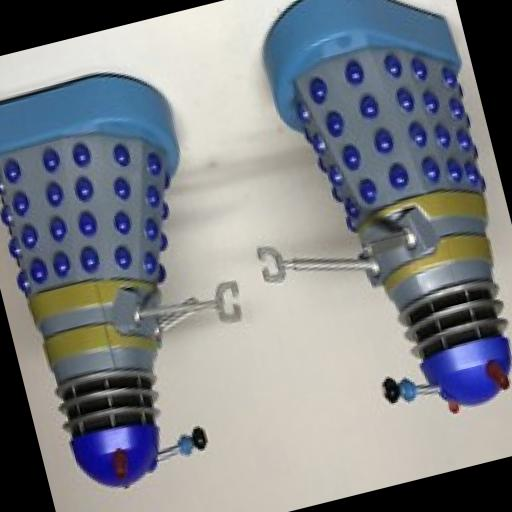dalek: (199, 0, 512, 456), (0, 47, 282, 508)
